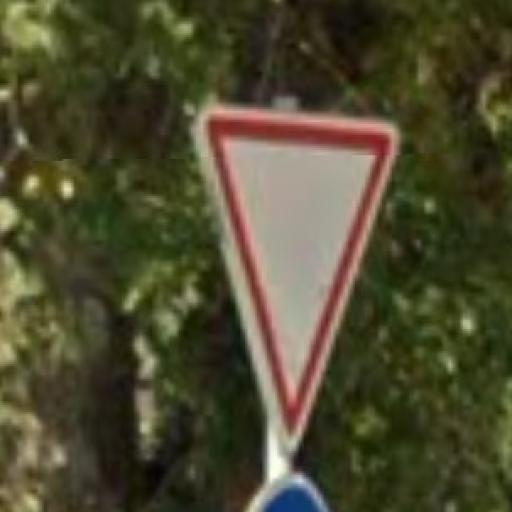traffic_sign: (197, 103, 401, 458)
